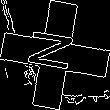N_E: (27, 31, 83, 79)
